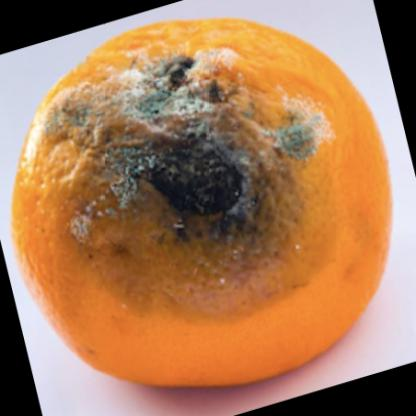rotten_orange: (15, 16, 393, 398)
